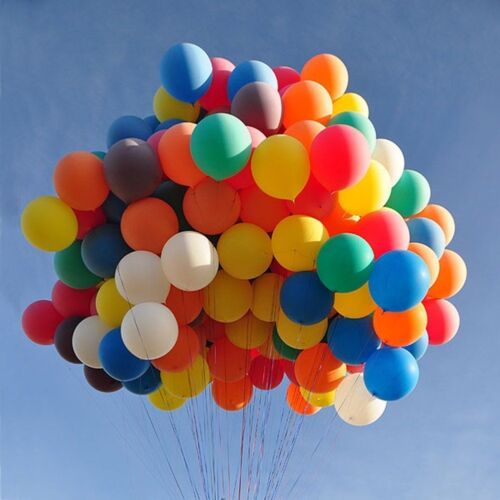Balloon: (189, 110, 250, 180), (371, 249, 430, 313), (312, 125, 369, 190), (255, 134, 310, 200), (103, 138, 162, 198), (122, 303, 180, 359), (159, 43, 212, 103), (320, 233, 373, 293), (364, 346, 420, 401), (56, 151, 108, 210), (164, 231, 216, 290), (22, 196, 77, 251), (120, 198, 177, 251), (219, 223, 271, 279), (274, 213, 325, 270), (184, 179, 240, 230), (115, 251, 167, 302), (280, 273, 331, 323), (233, 83, 283, 133), (280, 82, 332, 128), (297, 344, 345, 392), (103, 331, 150, 379), (389, 170, 431, 215), (162, 360, 207, 399), (72, 315, 104, 368), (23, 299, 58, 343), (212, 376, 252, 410), (251, 357, 284, 389)
